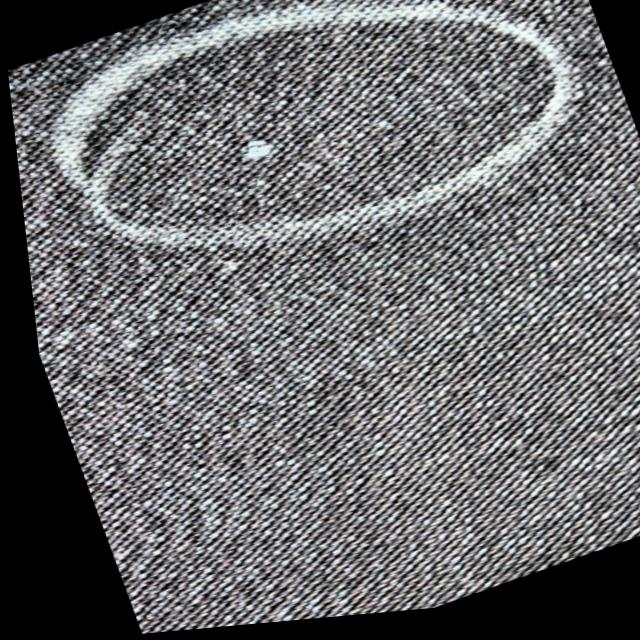Hole: (243, 145, 269, 162)
